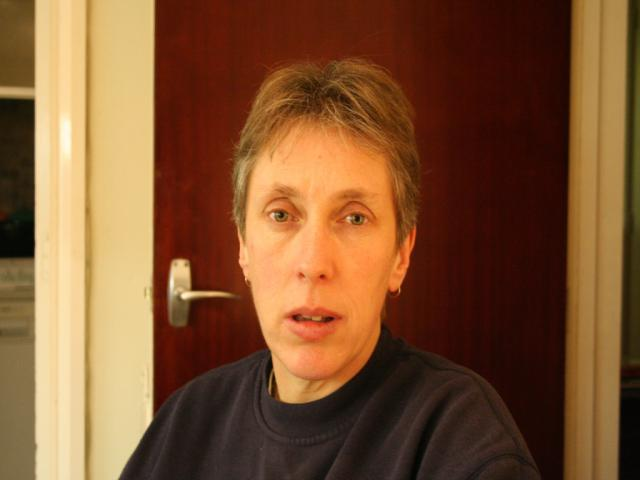Door-handle: (168, 258, 242, 328)
